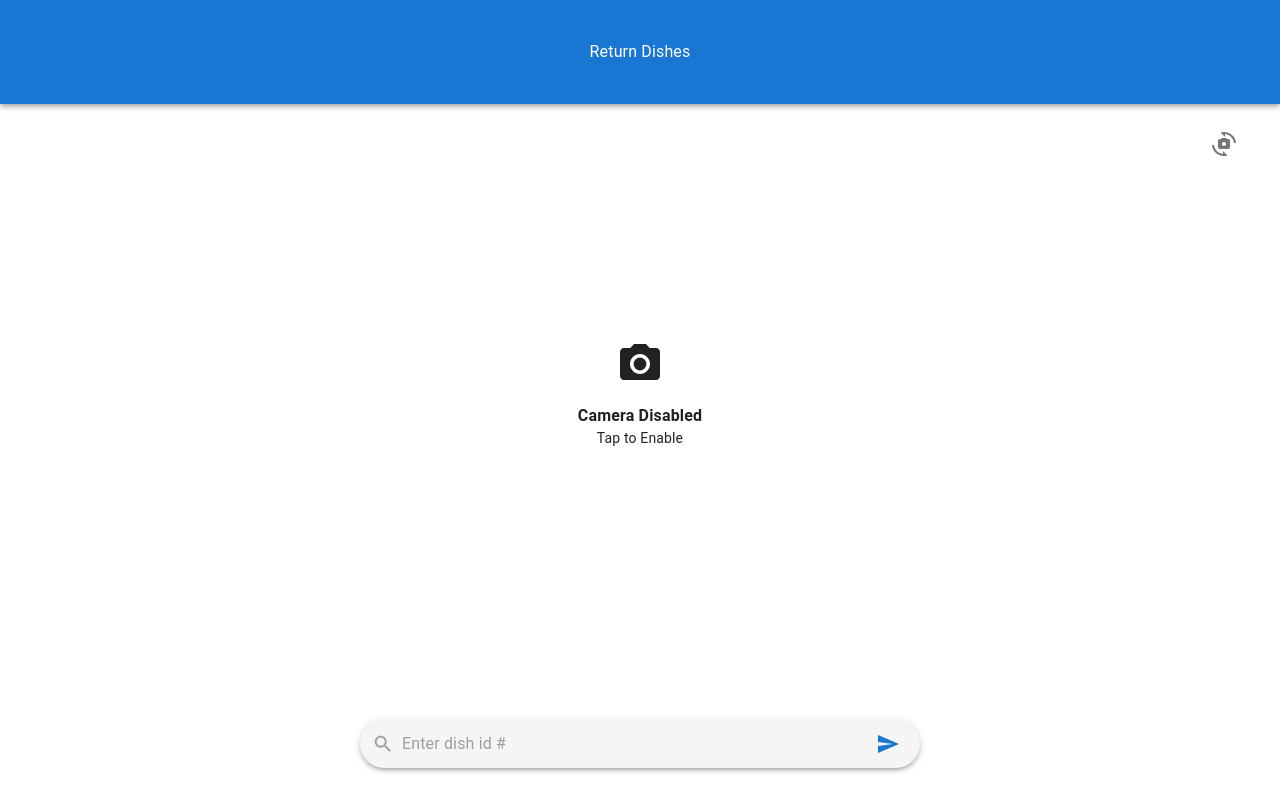
Test: shows the backend error when a return fails
Step 1. Type "6" into the field with placeholder "Enter dish id #" → {"x": 635, "y": 744}, box [402,728,868,760]
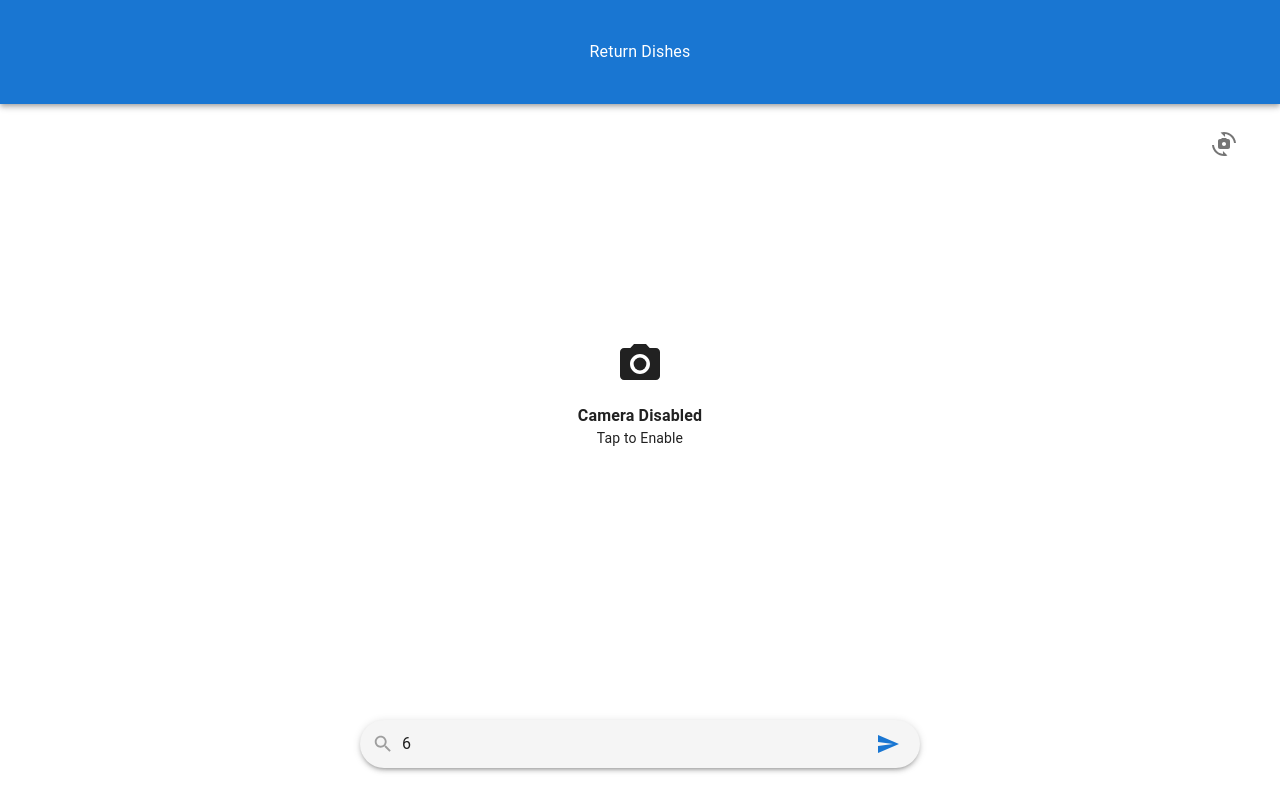
Step 2. Click the button with test id "return-btn" → {"x": 888, "y": 744}, box [868,724,908,764]
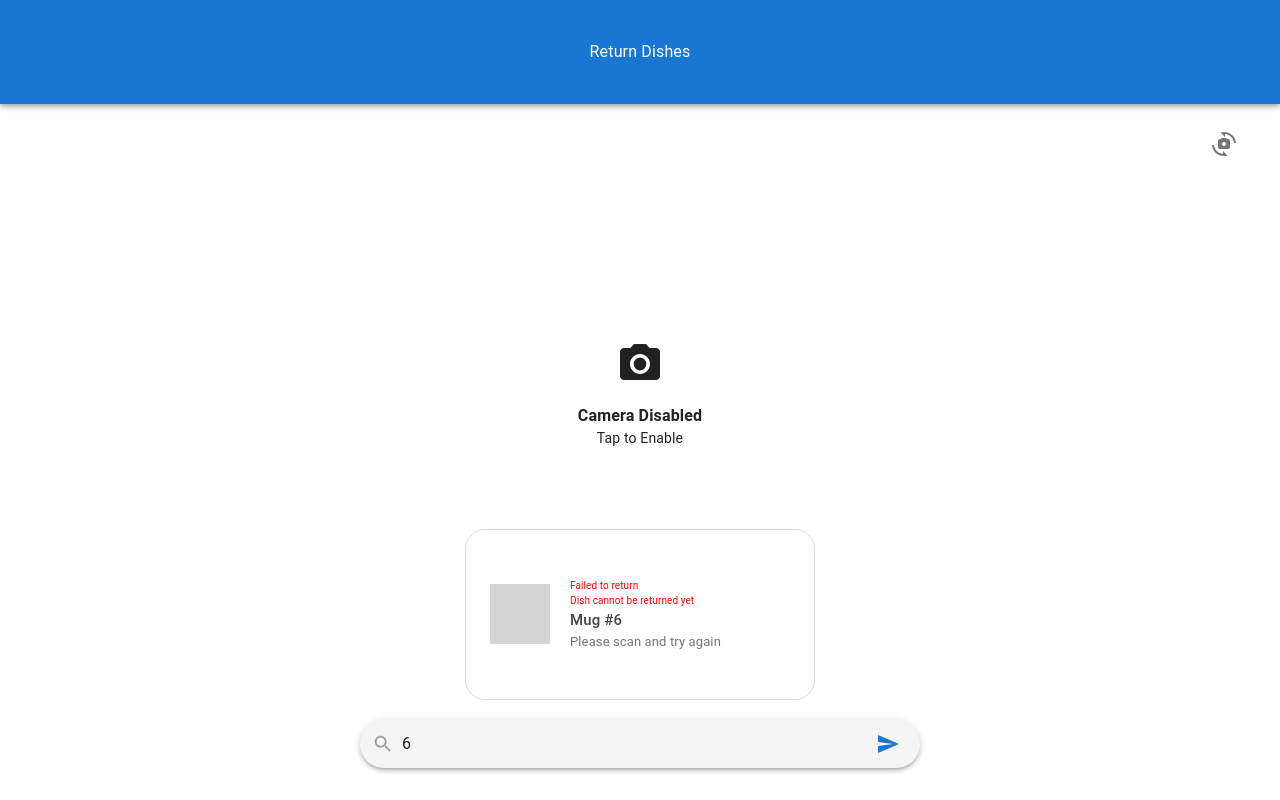
Now the text "Failed to return" is shown, box [570,580,638,590]
Now the text "Dish cannot be returned yet" is shown, box [570,594,694,606]
Now the text "Please scan and try again" is shown, box [570,632,721,651]
